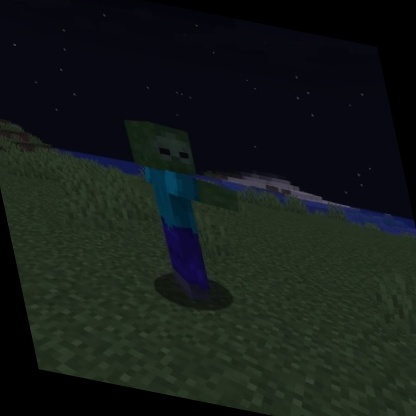zombie: (116, 113, 267, 317)
